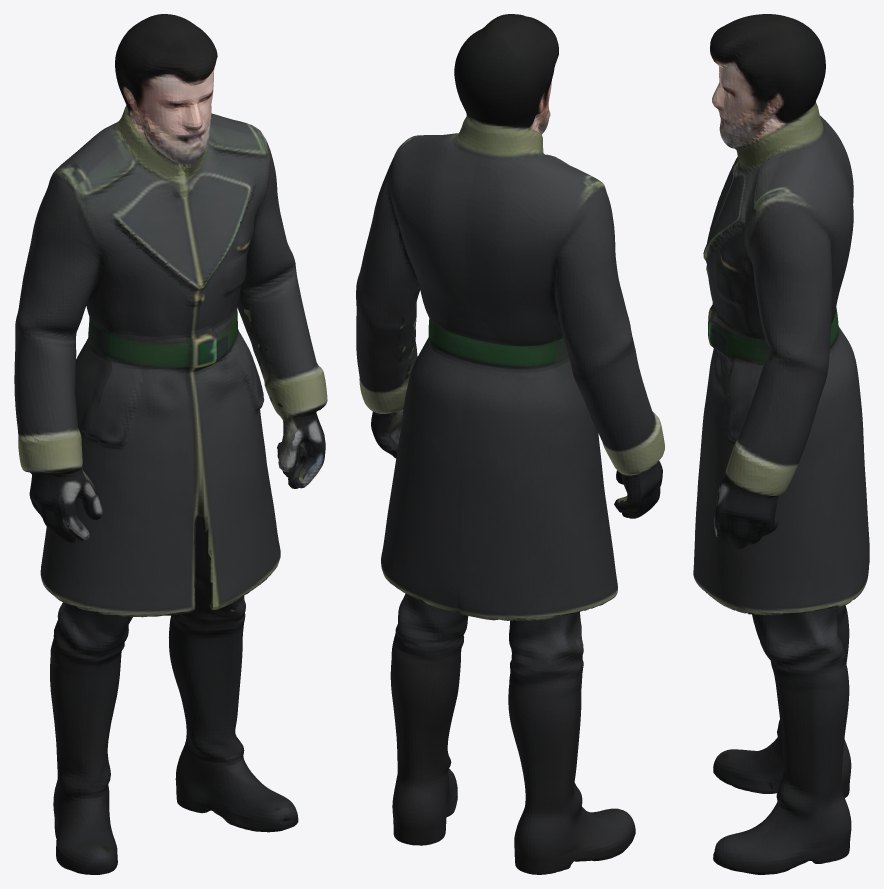
The model's file is seran.glb.
The picture shows the model from 3 angles, left to right: view 1: azimuth 30°, elevation 25°; view 2: azimuth 150°, elevation 25°; view 3: azimuth 270°, elevation 25°; orthographic projection.
Parts seen in each view (by area): view 1: tmpnfogl7fu.ply; view 2: tmpnfogl7fu.ply; view 3: tmpnfogl7fu.ply.
Boxes of the visible parts, x1=… form: tmpnfogl7fu.ply: x1=14, y1=14, x2=327, y2=874; tmpnfogl7fu.ply: x1=356, y1=14, x2=664, y2=874; tmpnfogl7fu.ply: x1=693, y1=14, x2=869, y2=874.
Bounding box in the file's own units: 0.7582 × 1.99 × 0.3952.
1 material, 1 textured.
